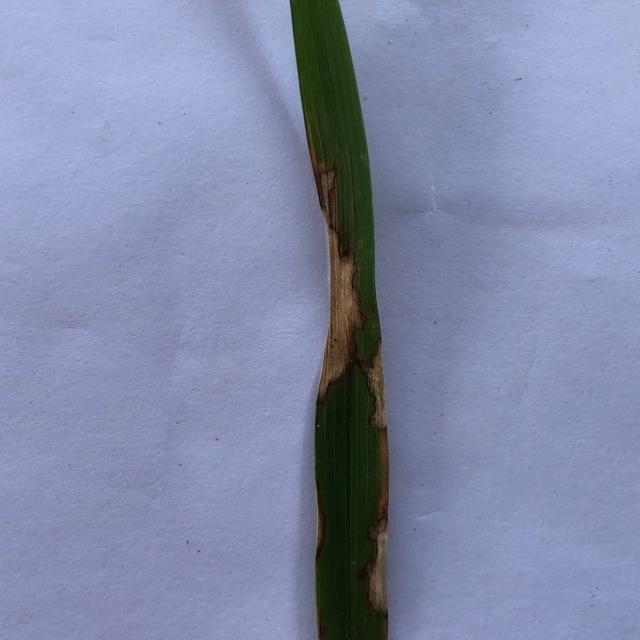leaf blight: (315, 142, 367, 391), (365, 431, 386, 617), (370, 348, 386, 434)
